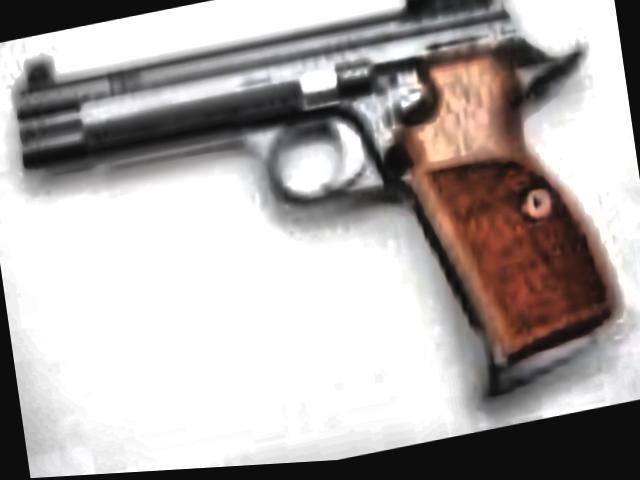pistol: (0, 0, 629, 478)
